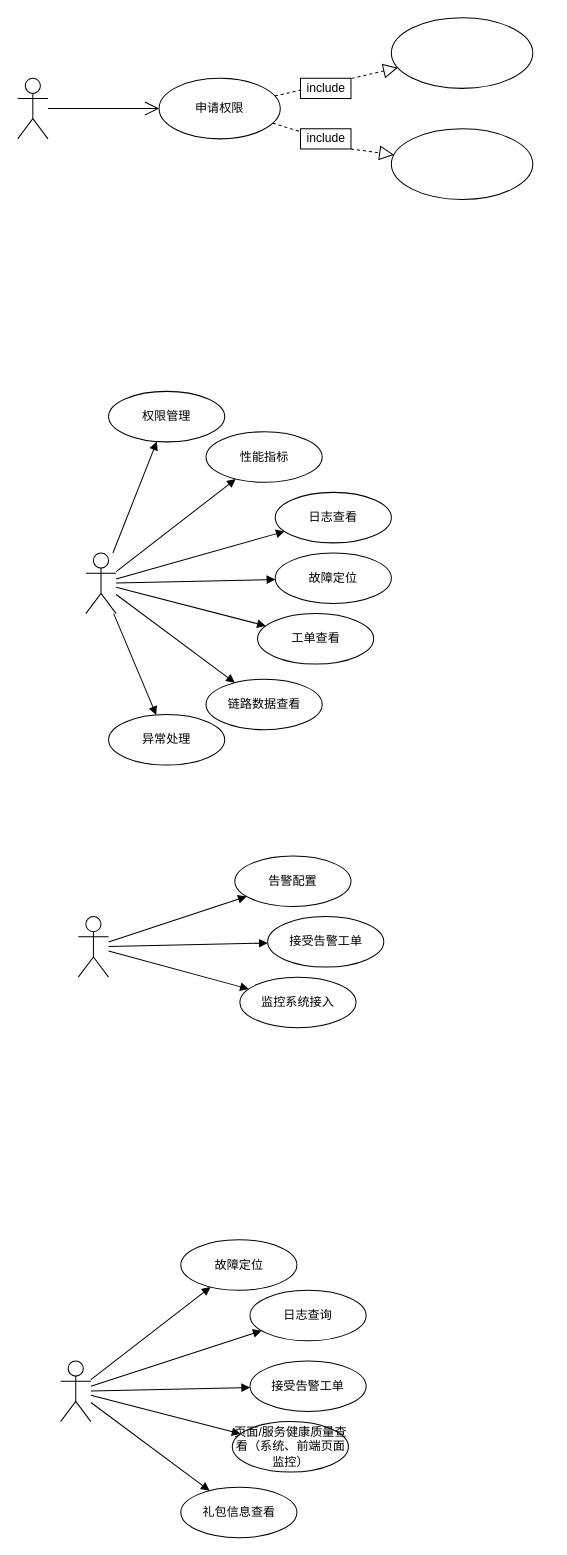
Some shapes in this 567 by 1555 pixel diagram are drawn without their labels. The centre of each missing label's shape, as x and y in pixels:
开发人员: point 93,946
活动开发人员: point 75,1391
用户: point 32,108
用户登录: point 461,52
用户退出: point 461,163
管理员: point 100,583
